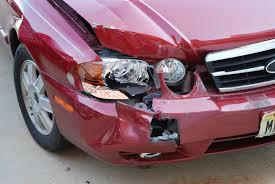Headlight-Damage: (59, 49, 170, 97)
fender-dent: (0, 0, 72, 103)
front-bumper-dent: (48, 86, 214, 168)
